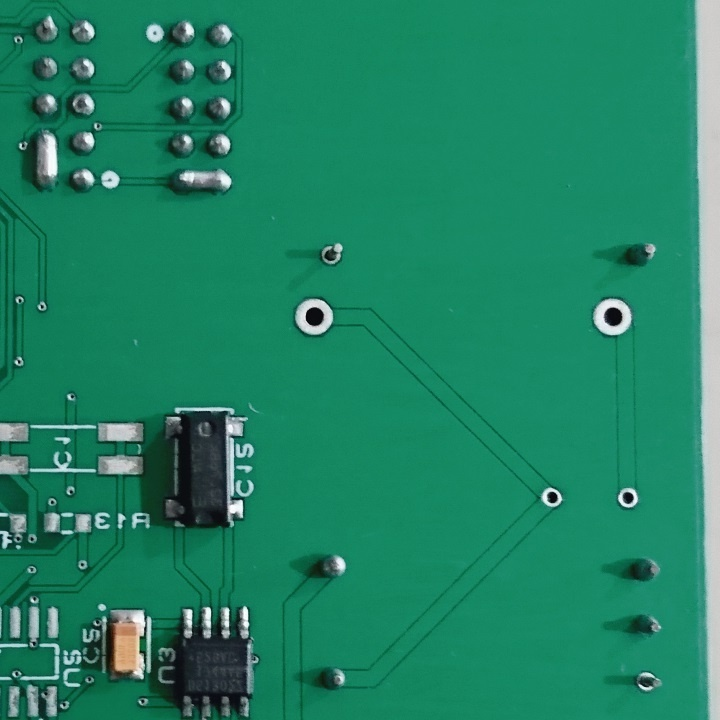F: (293, 293, 335, 342), (592, 295, 636, 338), (628, 666, 664, 697), (317, 235, 346, 269), (539, 483, 564, 512), (617, 485, 639, 511)
P: (167, 164, 237, 198), (30, 126, 61, 194)
